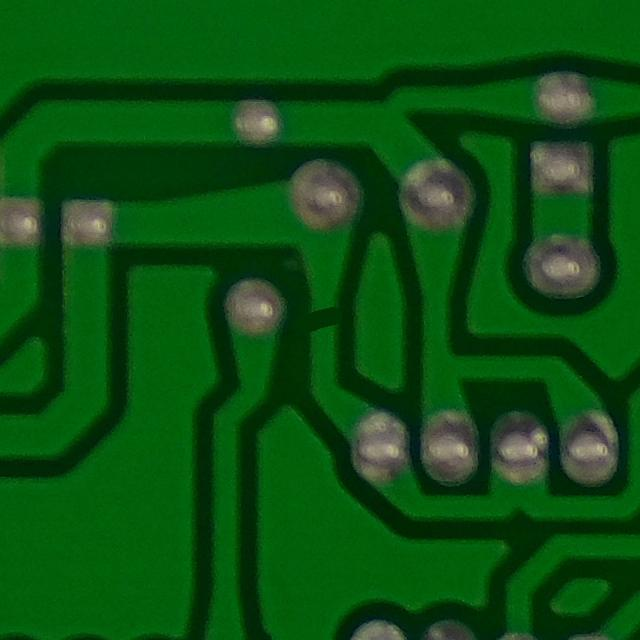open_circuit: (291, 296, 349, 344)
